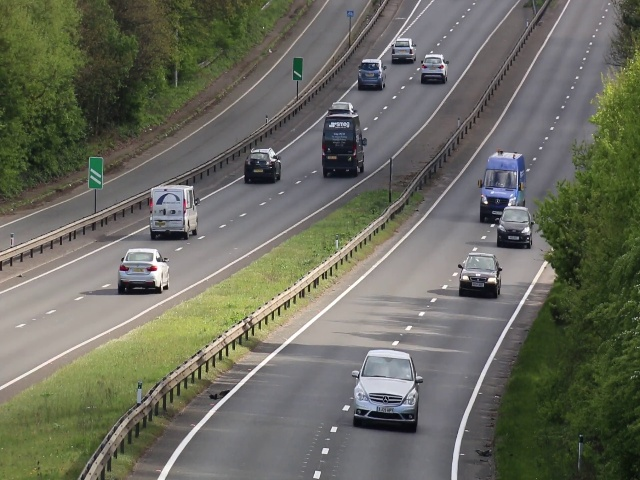car: (355, 348, 420, 430), (145, 183, 200, 240), (478, 151, 517, 222), (117, 245, 170, 294), (321, 120, 365, 178), (456, 250, 502, 297), (498, 207, 534, 250), (243, 148, 282, 181), (356, 57, 386, 91), (419, 52, 449, 84), (391, 36, 418, 63)
